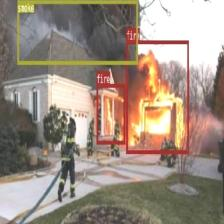fire: (126, 40, 188, 153), (96, 84, 125, 144)
smoke: (18, 0, 138, 64)
